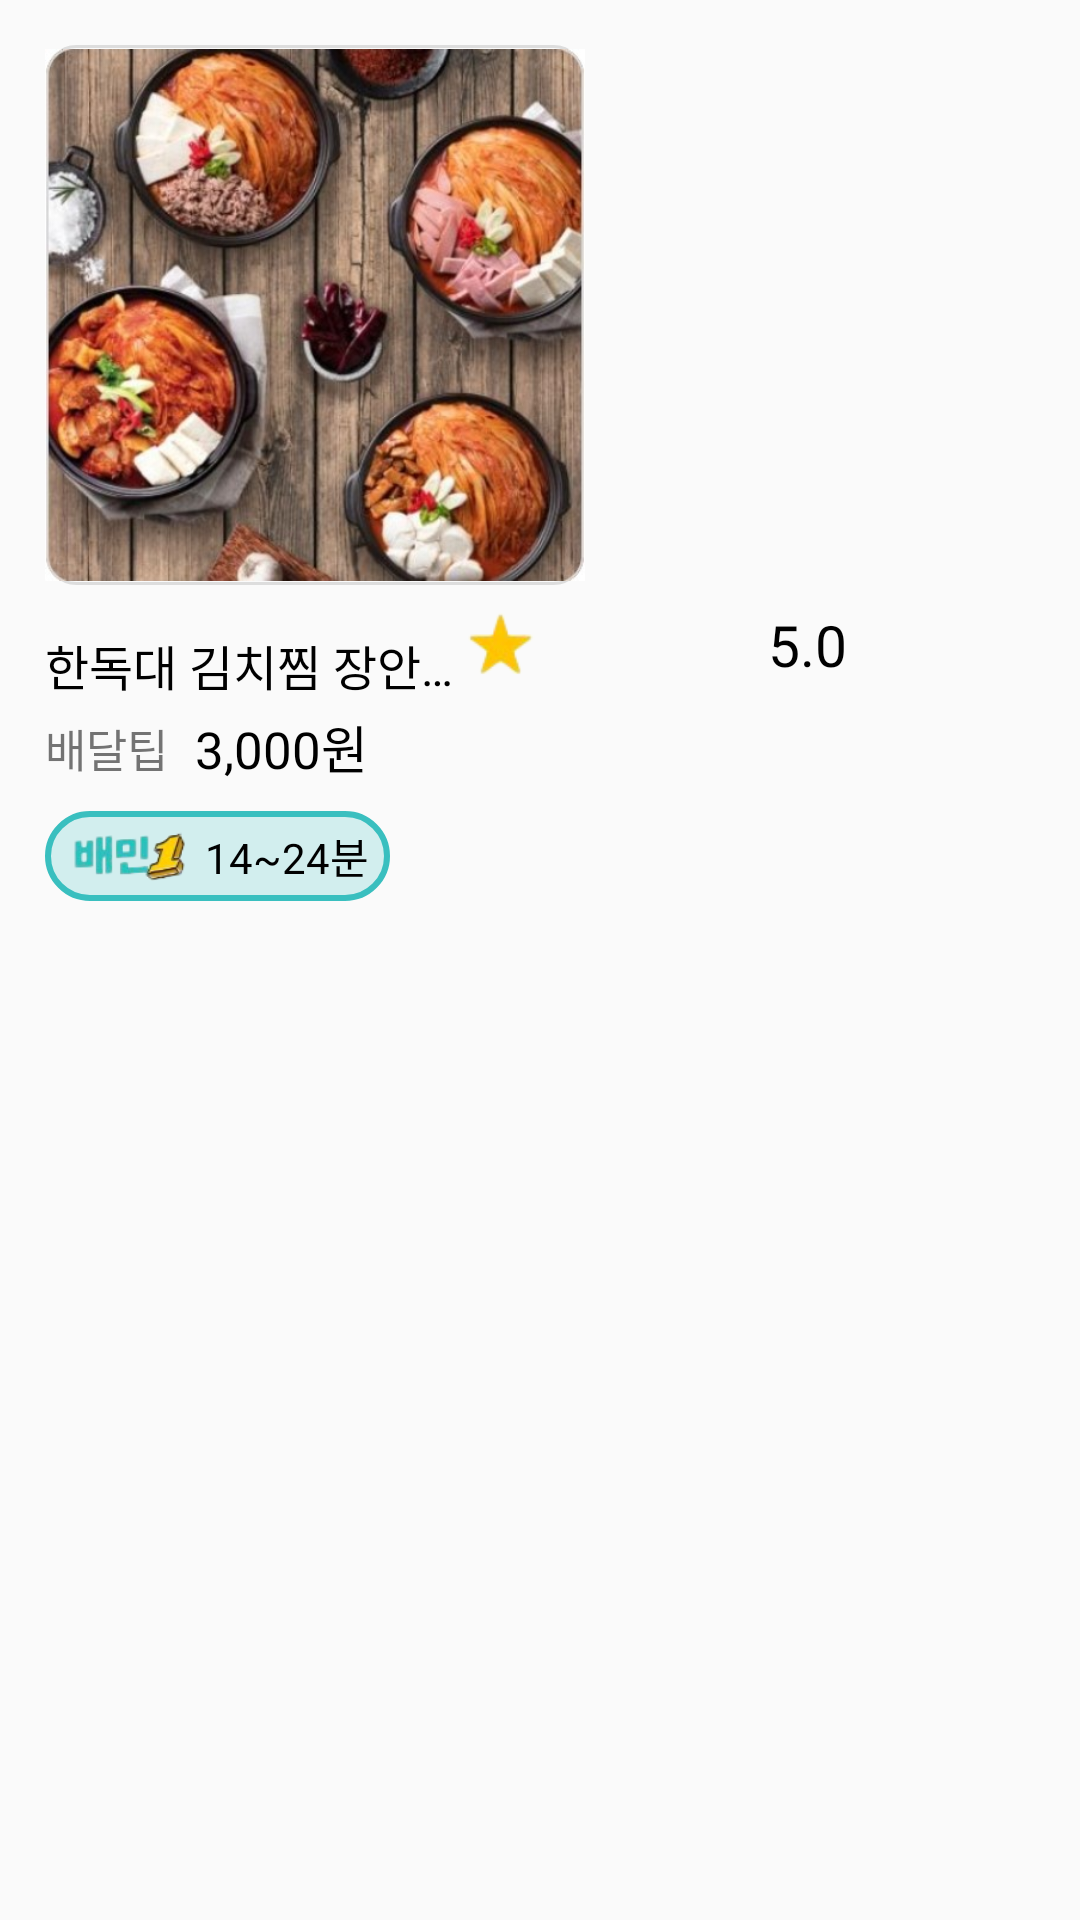

Icons on this 1080w x 1920h Android screen, each with its box as (x1, y1, x2, y2):
star: (470, 614, 532, 674)
